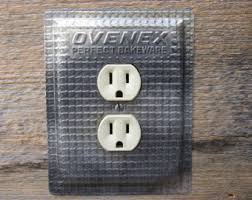outlet: (107, 120, 131, 150), (106, 70, 131, 98)
